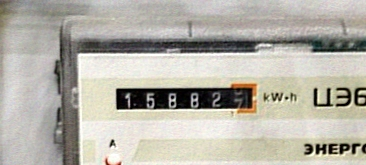1: (122, 91, 133, 109)
2: (210, 91, 222, 109)
5: (144, 92, 156, 110)
7: (232, 98, 244, 109)
8: (165, 92, 178, 109), (188, 91, 200, 109)
screen: (107, 78, 263, 122)
